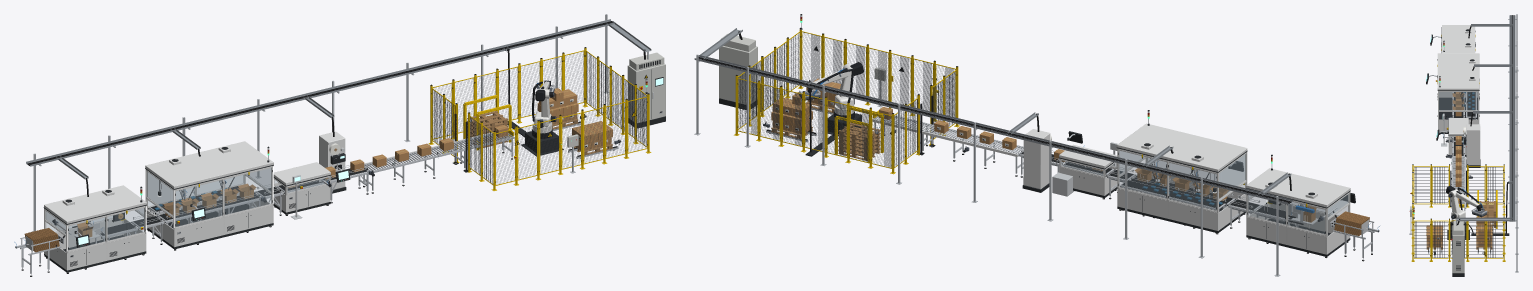
File: machine-mini.glb
3 renders of one model, left to right at view 1: azimuth 30°, elevation 25°; view 2: azimuth 150°, elevation 25°; view 3: azimuth 270°, elevation 25°, orthographic. The views are drawn at different scales.
Parts seen in each view (by area): view 1: lijn, robotcel; view 2: lijn, robotcel; view 3: lijn, robotcel.
Boxes of the visible parts, x1,y1,x2,y2 form: lijn: (14, 14, 665, 276); robotcel: (428, 47, 651, 190); lijn: (694, 28, 1379, 276); robotcel: (734, 14, 959, 174); lijn: (1426, 14, 1518, 276); robotcel: (1409, 164, 1509, 261).
Size of the model in its own units: 10 by 1.18 by 2.02.
